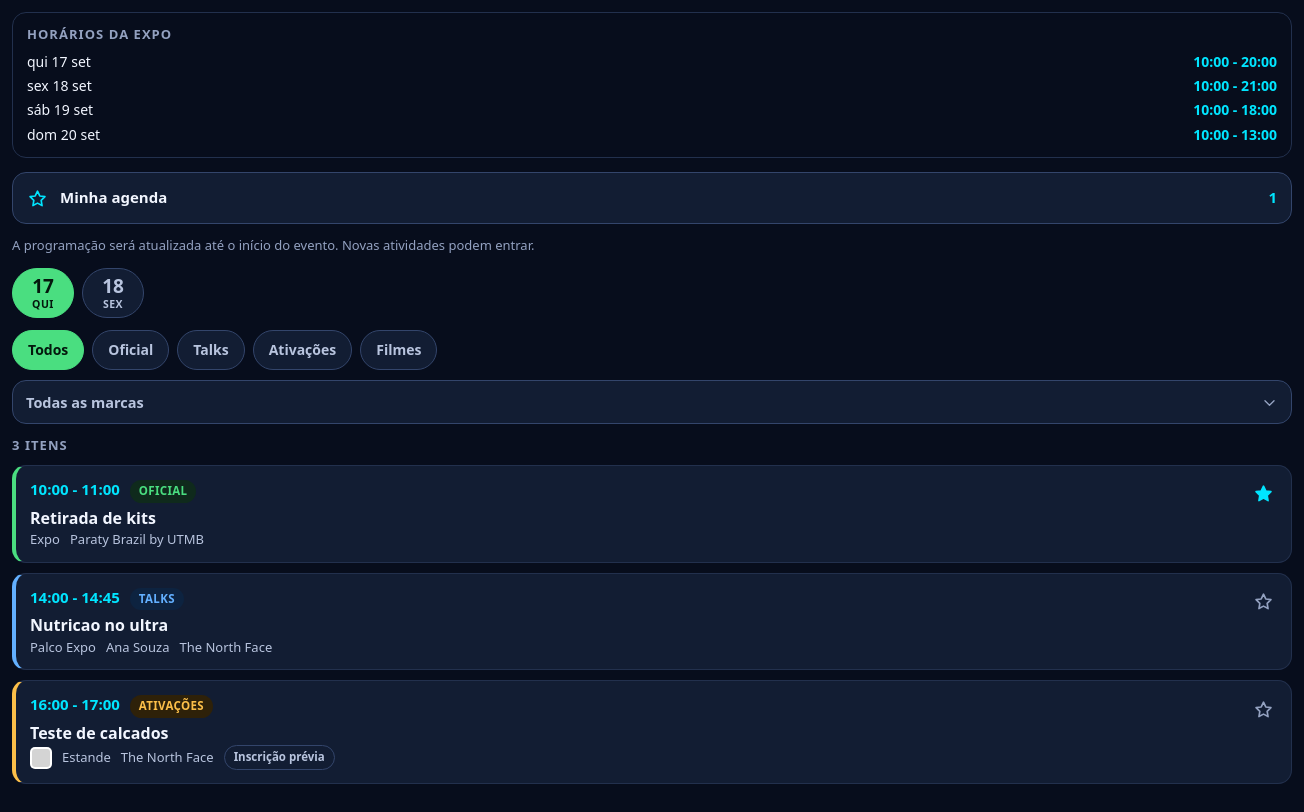
Scenario: agenda do atleta na programacao › esconde os filtros de dia e pilar dentro da agenda
This screenshot has width=1304, height=812.
Click the button "Minha agenda 1" at coordinates (114, 197), box [12,172,1292,224]
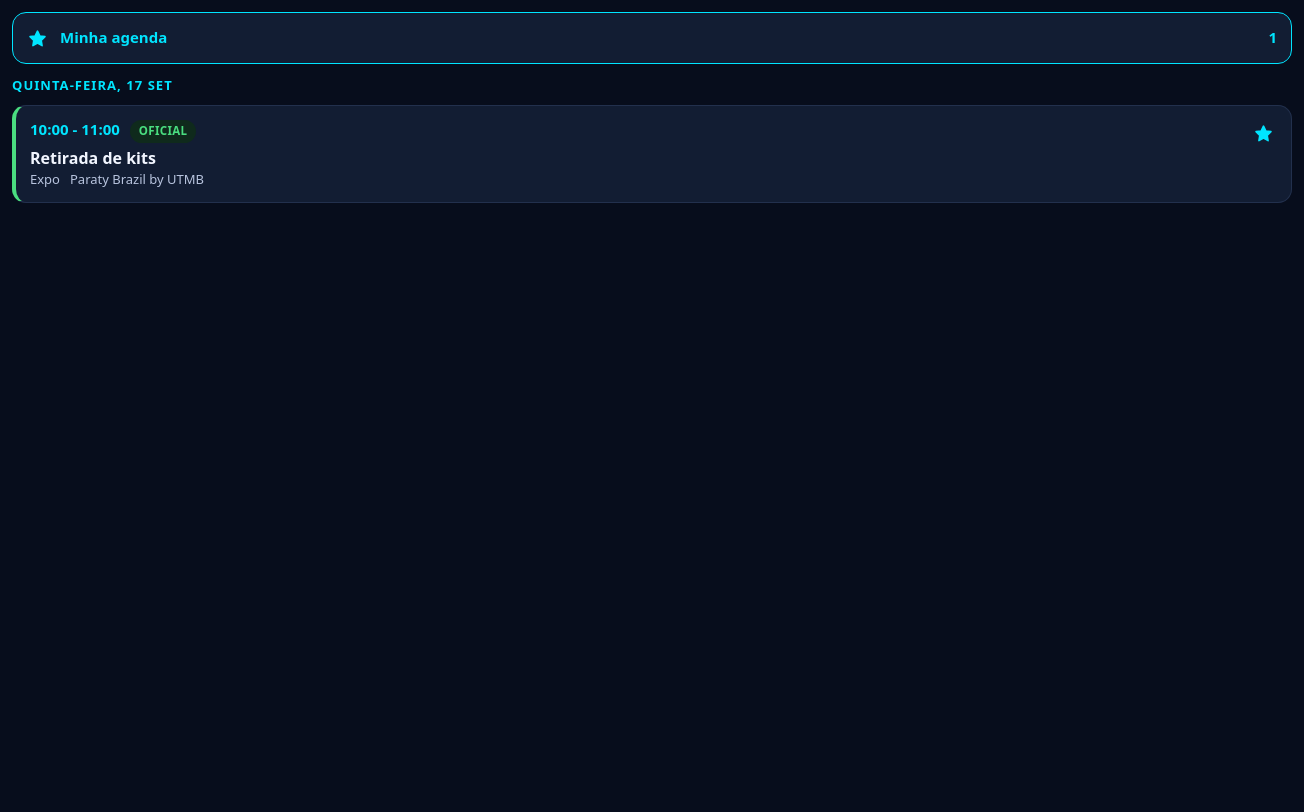
expect the tab is gone: met
